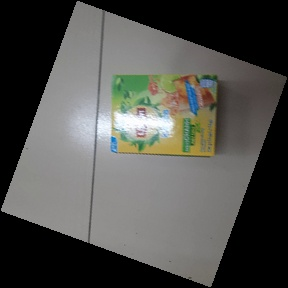LipTon: (108, 72, 222, 158)
